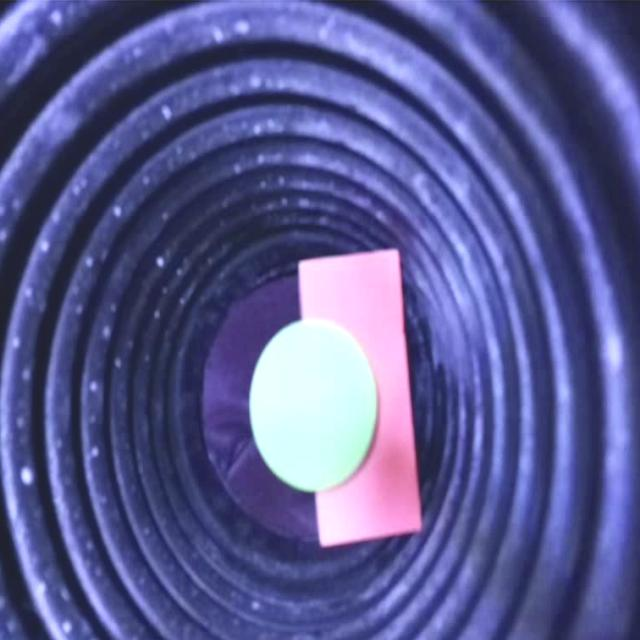obstacles: (257, 247, 427, 545)
